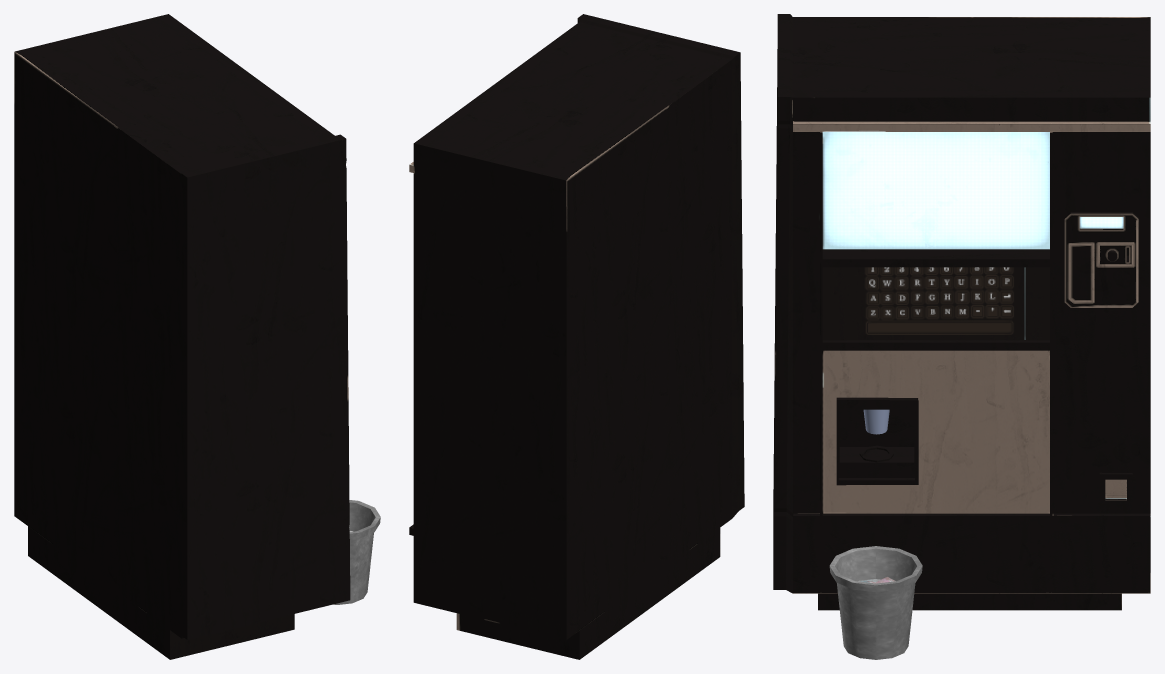
File: m_coffeeMachineTextured.fbx
The picture shows the model from 3 angles, left to right: view 1: azimuth 30°, elevation 25°; view 2: azimuth 150°, elevation 25°; view 3: azimuth 270°, elevation 25°; orthographic projection. The views are drawn at different scales.
Visible parts, largest first — view 1: m_coffeeMachine, m_bin; view 2: m_coffeeMachine; view 3: m_coffeeMachine, m_bin, m_cup1.
Part boxes in pixels (x1=…): m_coffeeMachine: x1=14, y1=14, x2=350, y2=659; m_bin: x1=333, y1=500, x2=380, y2=604; m_coffeeMachine: x1=409, y1=14, x2=744, y2=659; m_coffeeMachine: x1=773, y1=14, x2=1150, y2=610; m_bin: x1=829, y1=546, x2=922, y2=659; m_cup1: x1=863, y1=409, x2=889, y2=434.
Size of the model in its own units: 98.6 by 199 by 128.
1 material, 1 textured.
